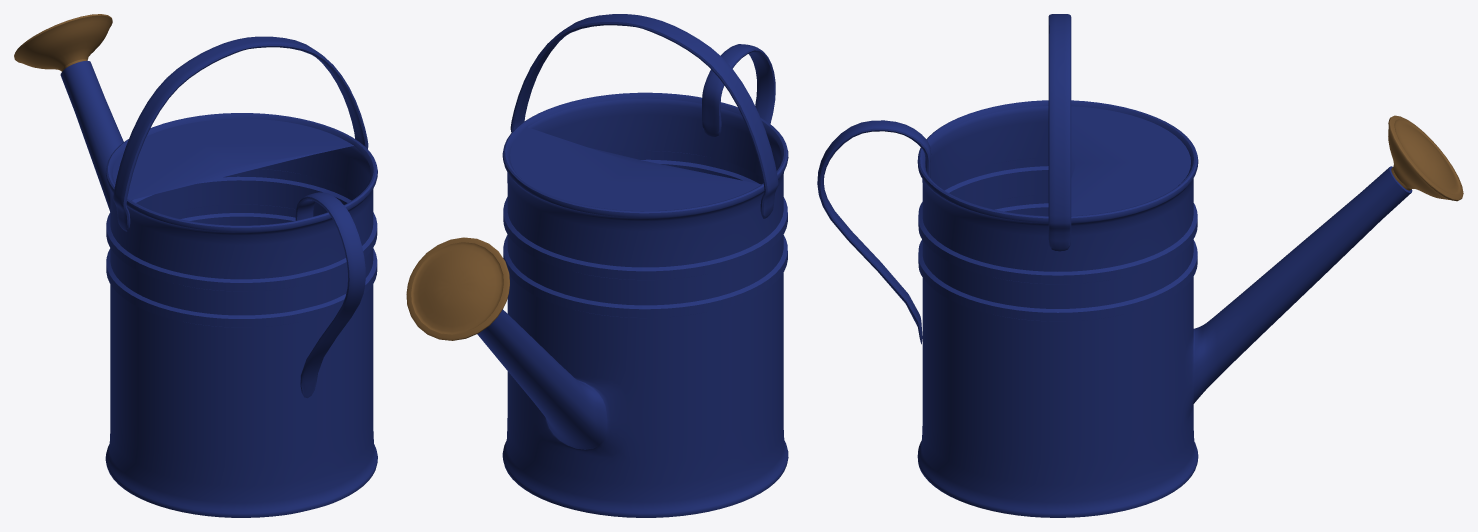
Rendered from wateringcan 2.fbx.
The picture shows the model from 3 angles, left to right: view 1: azimuth 30°, elevation 25°; view 2: azimuth 150°, elevation 25°; view 3: azimuth 270°, elevation 25°; orthographic projection. The views are drawn at different scales.
Visible parts, largest first — view 1: Cylinder.005; view 2: Cylinder.005; view 3: Cylinder.005.
Boxes of the visible parts, <box> form: Cylinder.005: <box>14,14,377,517</box>; Cylinder.005: <box>406,14,788,517</box>; Cylinder.005: <box>817,14,1463,517</box>.
Size of the model in its own units: 215 by 349 by 473.
